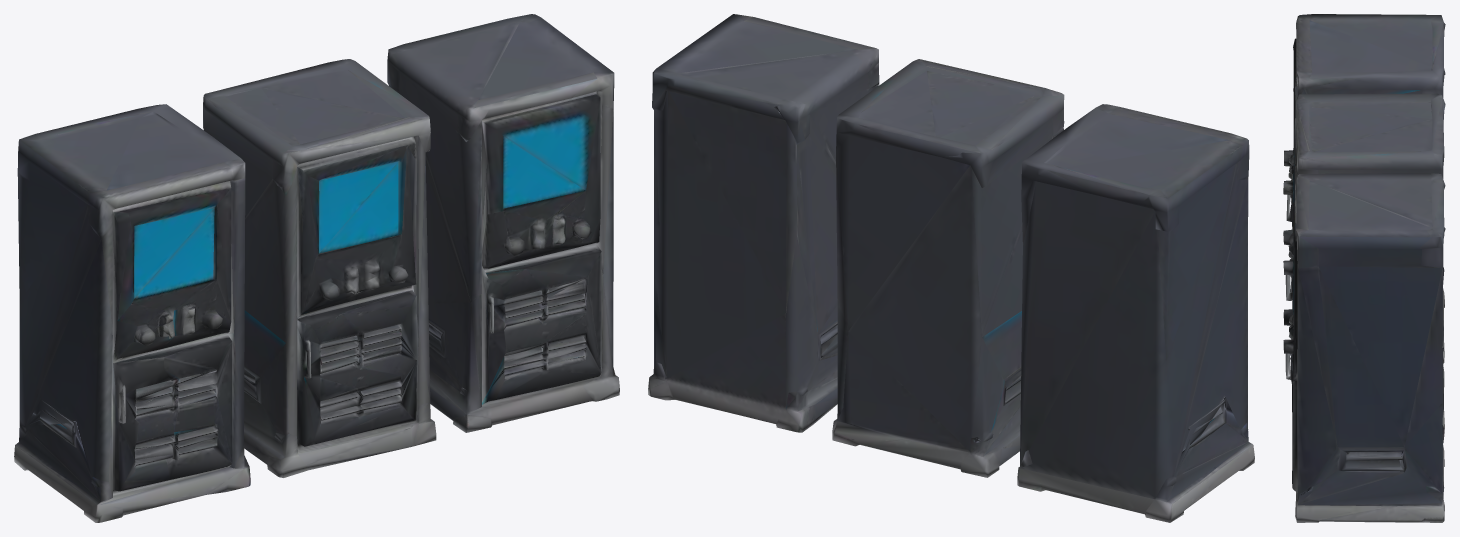
3 views of the same model, side by side, from view 1: azimuth 30°, elevation 25°; view 2: azimuth 150°, elevation 25°; view 3: azimuth 270°, elevation 25° (orthographic). The views are drawn at different scales.
Size of the model in its own units: 1.89 by 1.11 by 0.5737.
1 material, 1 textured.
